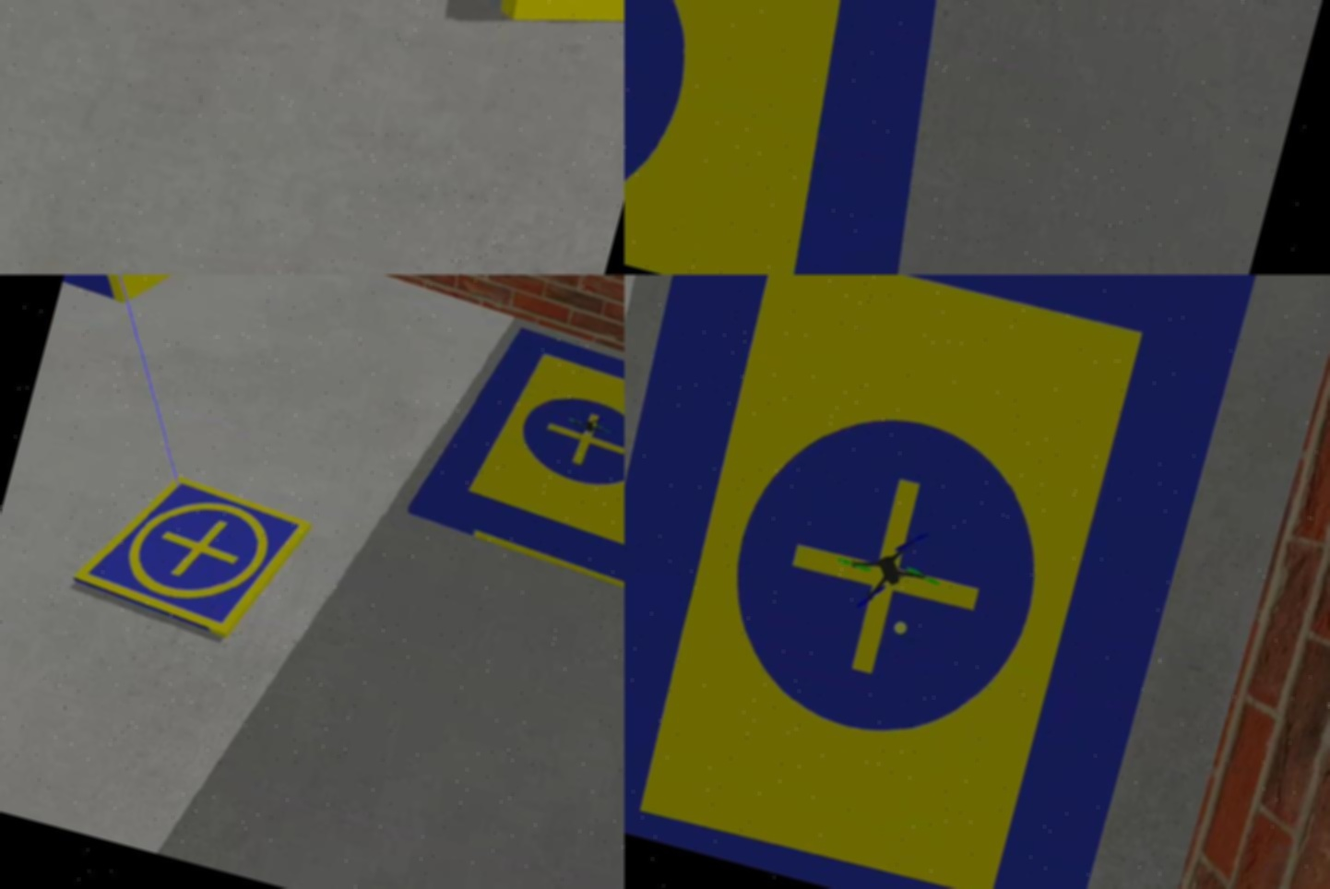large_base: (624, 275, 1264, 889), (624, 1, 1009, 275), (406, 308, 624, 610)
small_base: (70, 458, 311, 657)
